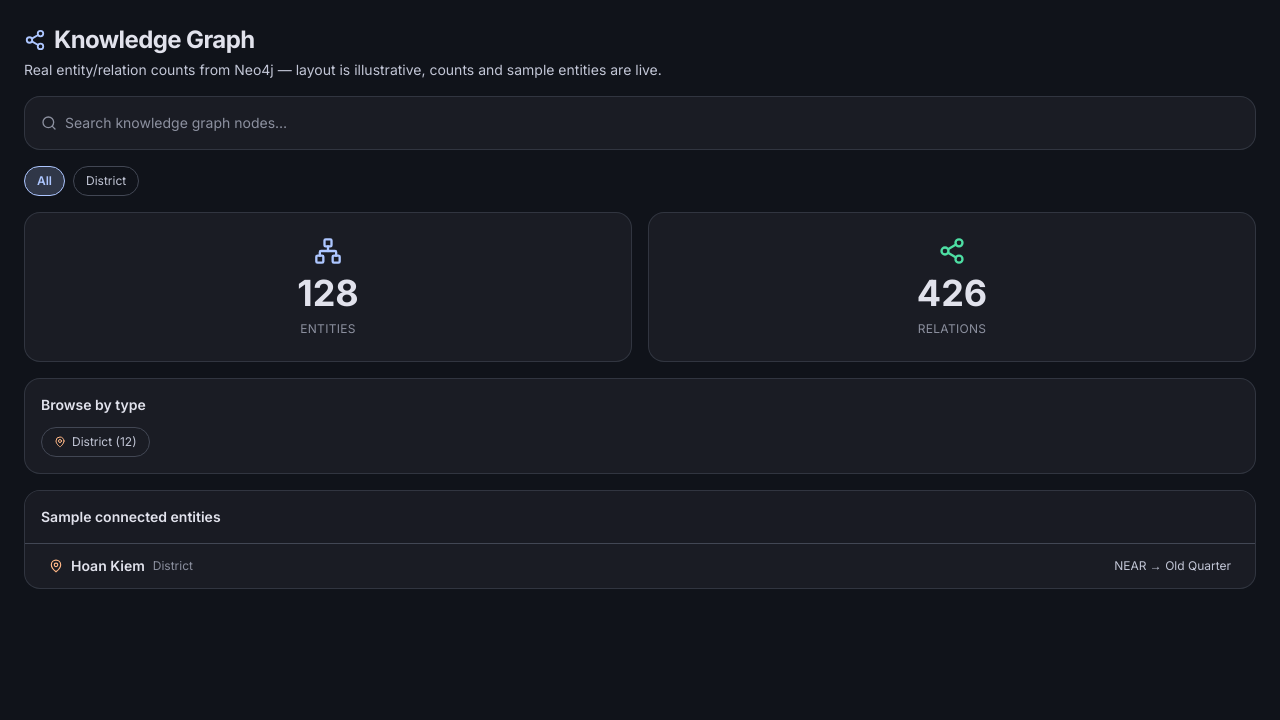
Test: KnowledgeGraphPage › clicking a browsed entity opens its detail modal
Click the button "District (12)" at [95, 442], box [41,427,150,457]
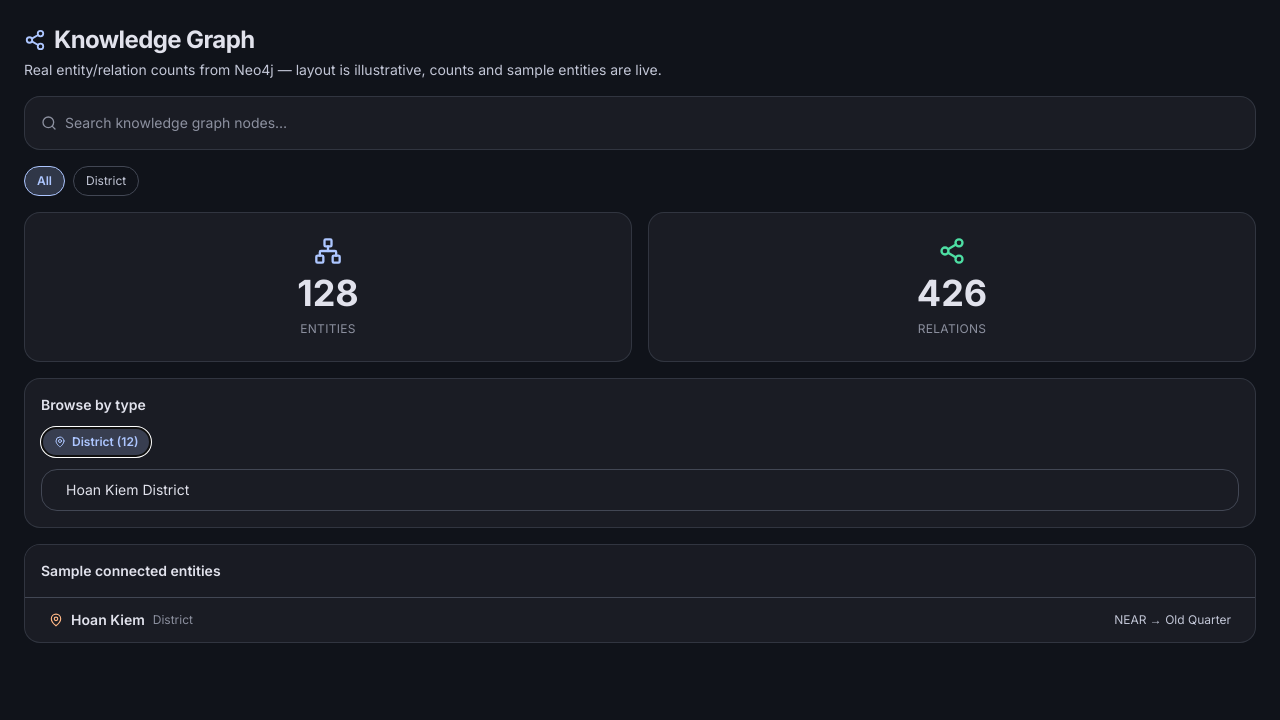
Expected: the button with test id "knowledge-browse-entity-row" is shown
Click the button "Hoan Kiem District" at [128, 490], box [42,470,1238,510]
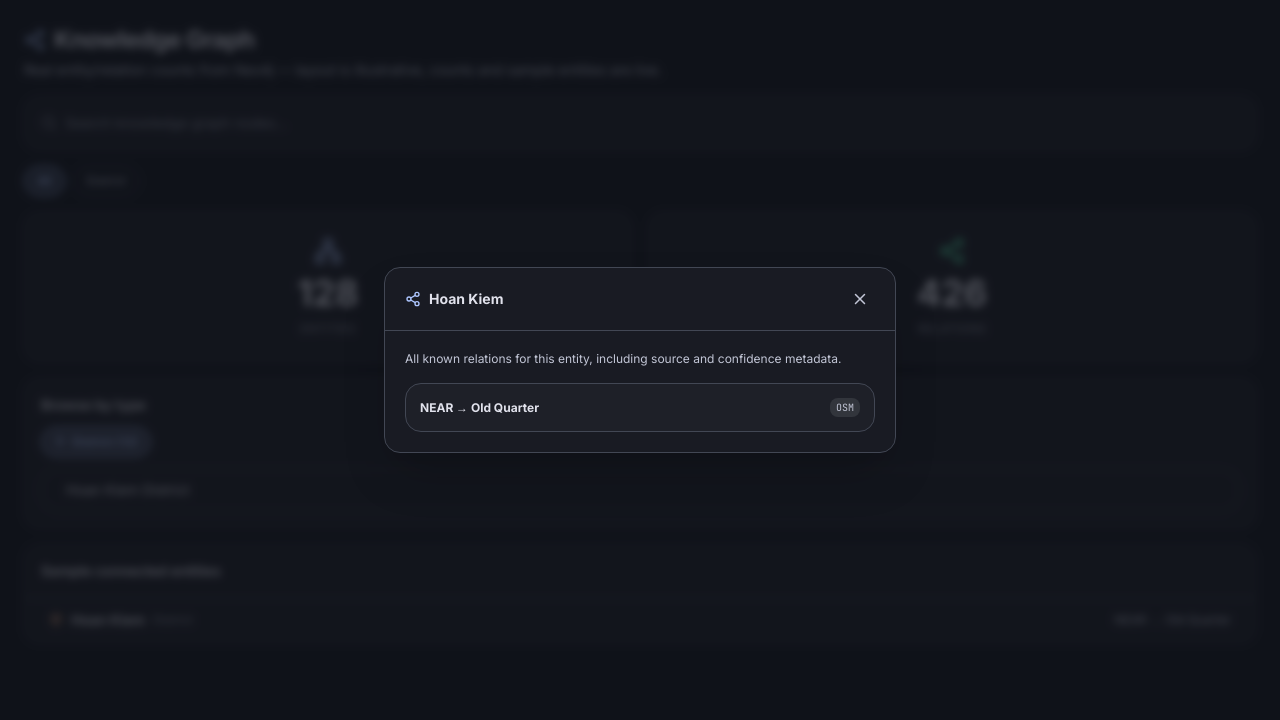
Expected: the dialog with test id "knowledge-entity-modal" is shown, [384,267,896,453]
